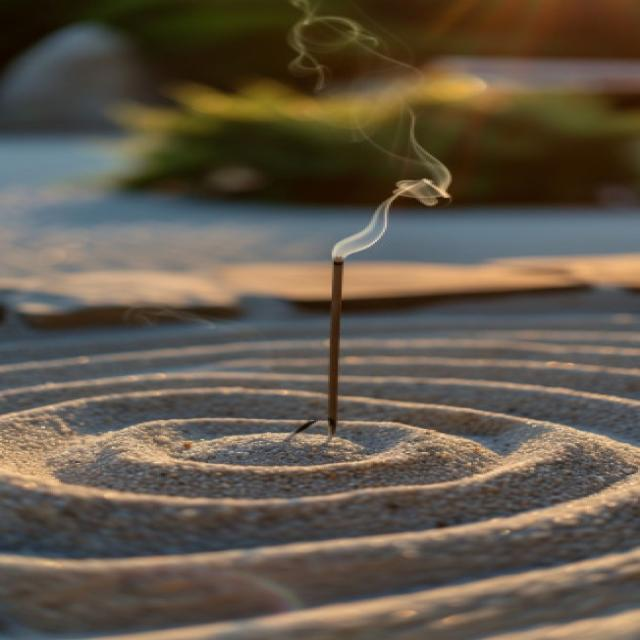Agarbatti: (307, 240, 390, 440)
